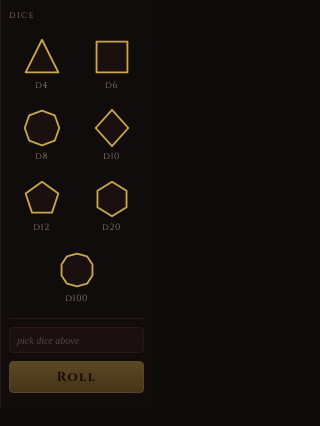
DiceTray — AC-001 queue accumulation › shows correct grouped expression after clicking multiple dice (AC-001)
This screenshot has width=320, height=426.
Step 1. Click the button titled "d6" → (112, 64), box [79, 31, 144, 97]
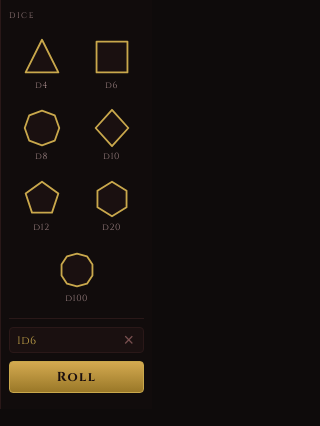
Step 2. Click the button titled "d6" → (112, 64), box [79, 31, 144, 97]
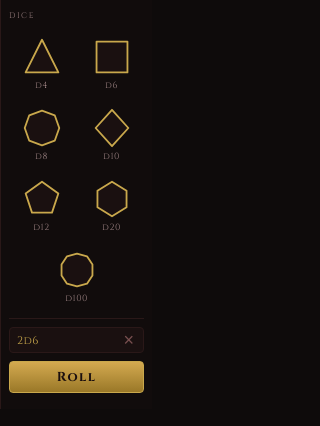
Step 3. Click the button titled "d20" → (112, 206), box [79, 173, 144, 239]
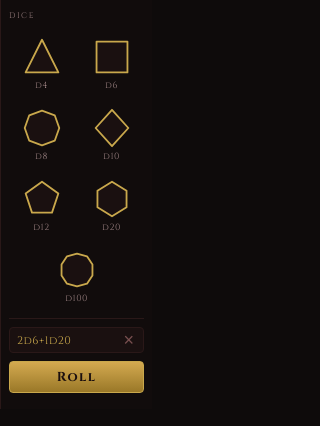
expect the text "2d6+1d20" is shown: met, box [17, 332, 71, 348]
